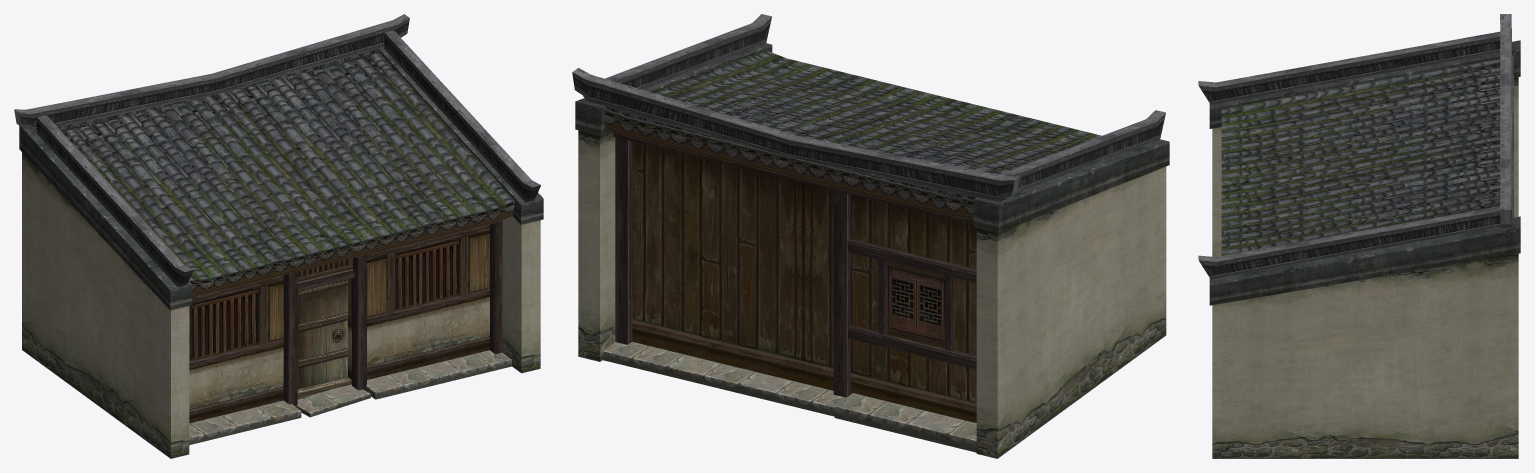
File: minju_dw_20.fbx
3 views of the same model, side by side, from view 1: azimuth 30°, elevation 25°; view 2: azimuth 150°, elevation 25°; view 3: azimuth 270°, elevation 25° (orthographic). The views are drawn at different scales.
Parts seen in each view (by area): view 1: minju_dw_20; view 2: minju_dw_20; view 3: minju_dw_20.
Part boxes in pixels (x1,y1,x2,y2): minju_dw_20: [14, 14, 543, 458]; minju_dw_20: [572, 14, 1169, 458]; minju_dw_20: [1198, 14, 1520, 458].
Size of what is drawn, in the model's own units: 859 by 521 by 597.
